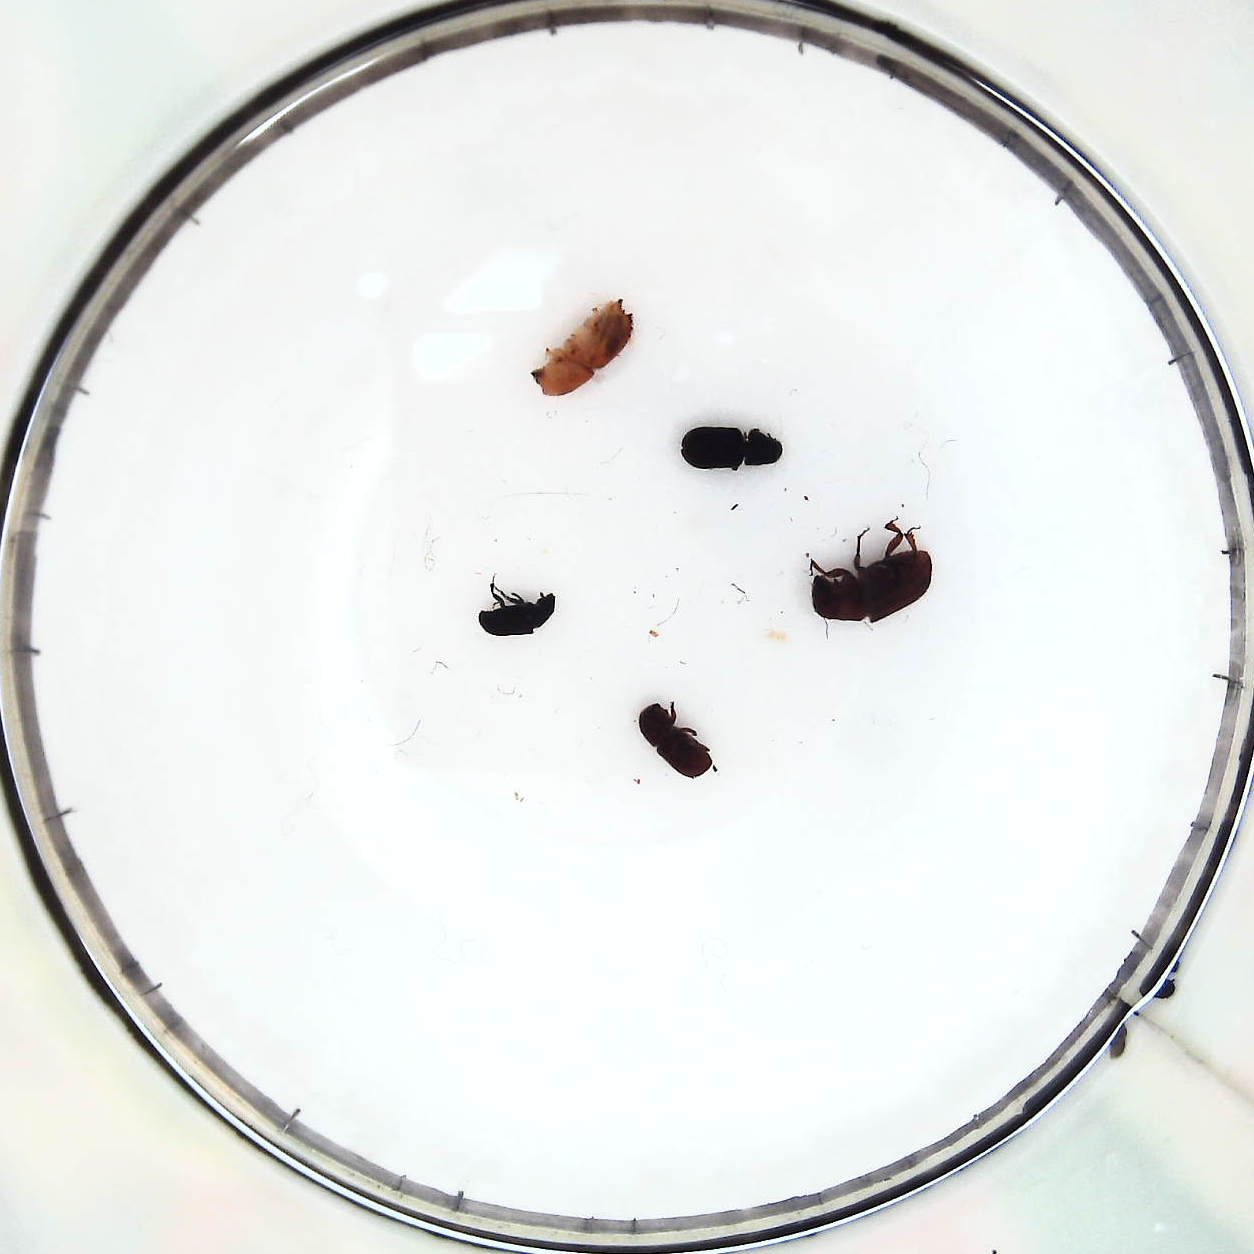Boerner: (533, 301, 638, 398)
Leconte: (815, 545, 931, 622)
Linnaeus: (638, 699, 718, 781)
armandi: (682, 421, 788, 469)
coleoptera: (479, 589, 557, 635)
